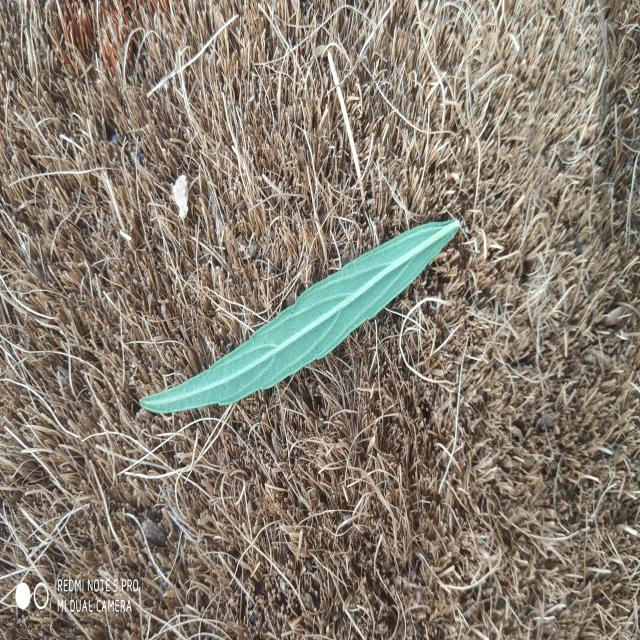thambe: (140, 220, 459, 413)
